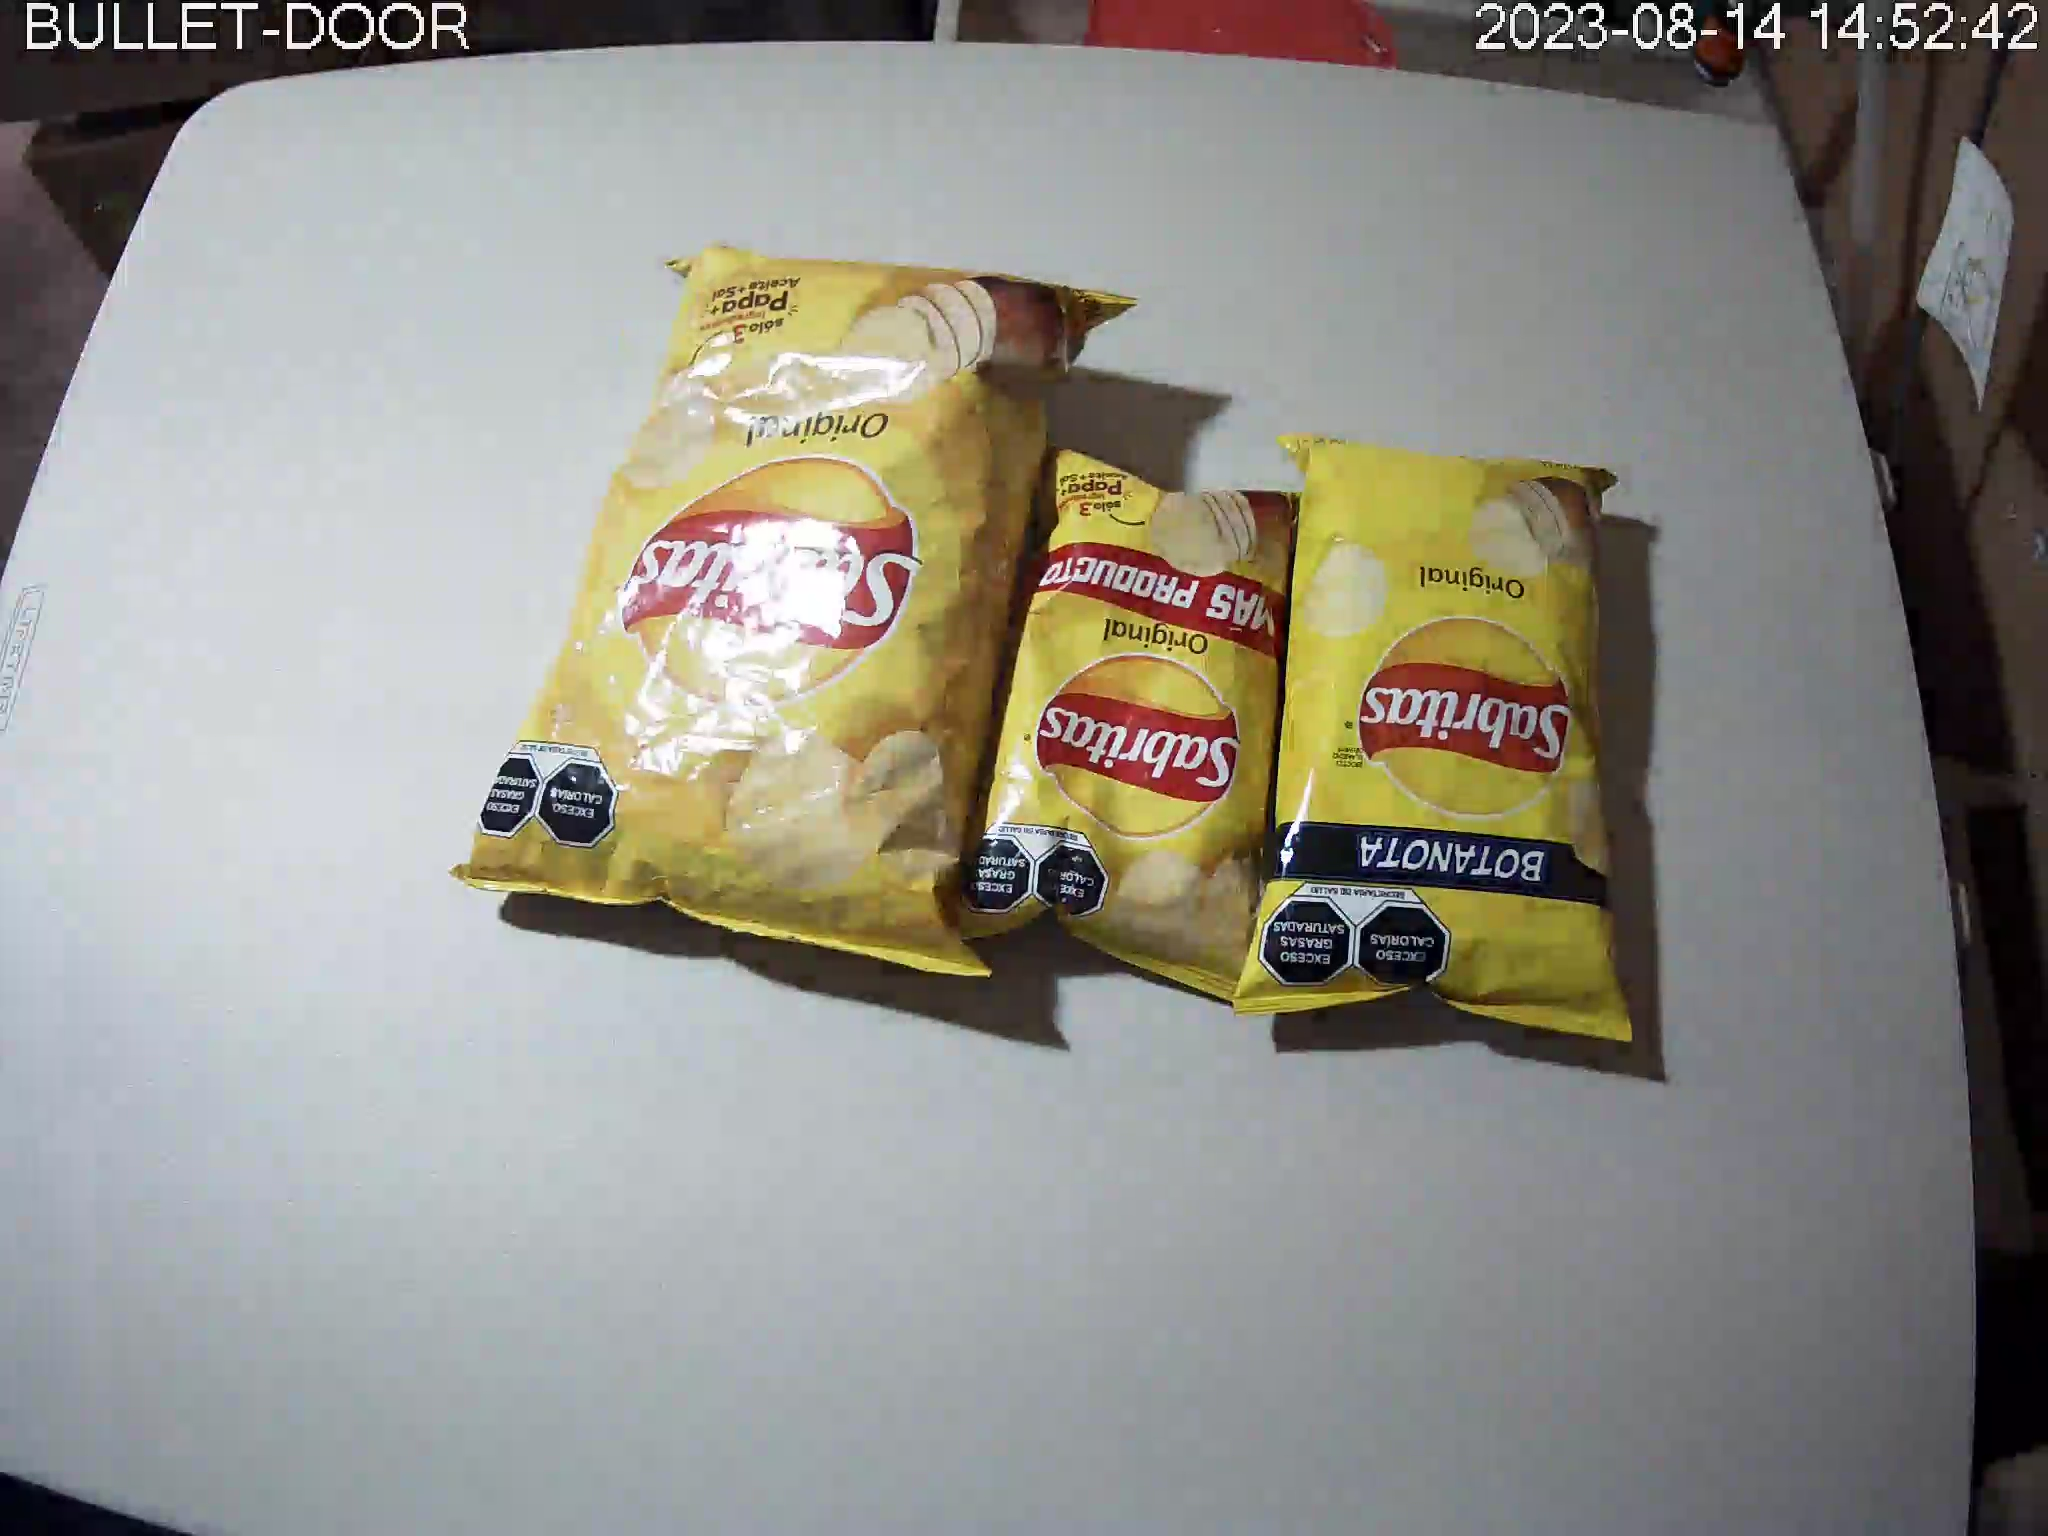Sabritas_160_F: (452, 240, 1142, 984)
Sabritas_45_F: (927, 444, 1322, 1008)
Sabritas_64_F: (1235, 429, 1638, 1047)
